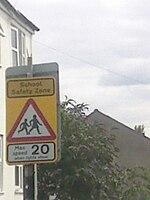School Ahead: (11, 91, 53, 159)
